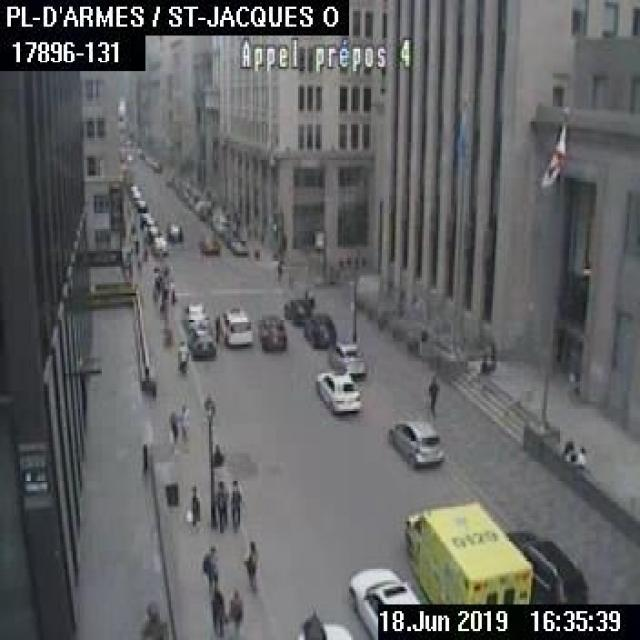pedestrian: (240, 536, 258, 591), (209, 584, 227, 638), (476, 342, 494, 391), (184, 478, 200, 532), (200, 544, 216, 595), (214, 478, 228, 531), (229, 477, 240, 530), (176, 401, 188, 442), (175, 334, 187, 374), (426, 373, 438, 409), (167, 400, 177, 442), (574, 436, 586, 466), (561, 438, 573, 463), (212, 310, 219, 341), (276, 262, 282, 280), (135, 258, 141, 272), (142, 247, 146, 260)
vehicle: (402, 498, 530, 602), (504, 530, 588, 602), (347, 562, 418, 638), (385, 416, 442, 466), (313, 371, 364, 411), (326, 337, 364, 374), (219, 306, 252, 346), (253, 311, 286, 350), (301, 309, 335, 346), (294, 621, 350, 638), (282, 296, 310, 322), (228, 588, 242, 638), (188, 331, 214, 356), (183, 302, 207, 328), (211, 211, 230, 235), (186, 319, 208, 339), (198, 231, 218, 253), (223, 227, 241, 247), (138, 209, 156, 228), (166, 221, 183, 241), (230, 237, 247, 254), (150, 236, 167, 253), (146, 223, 160, 240), (129, 184, 142, 198), (133, 196, 145, 210)
